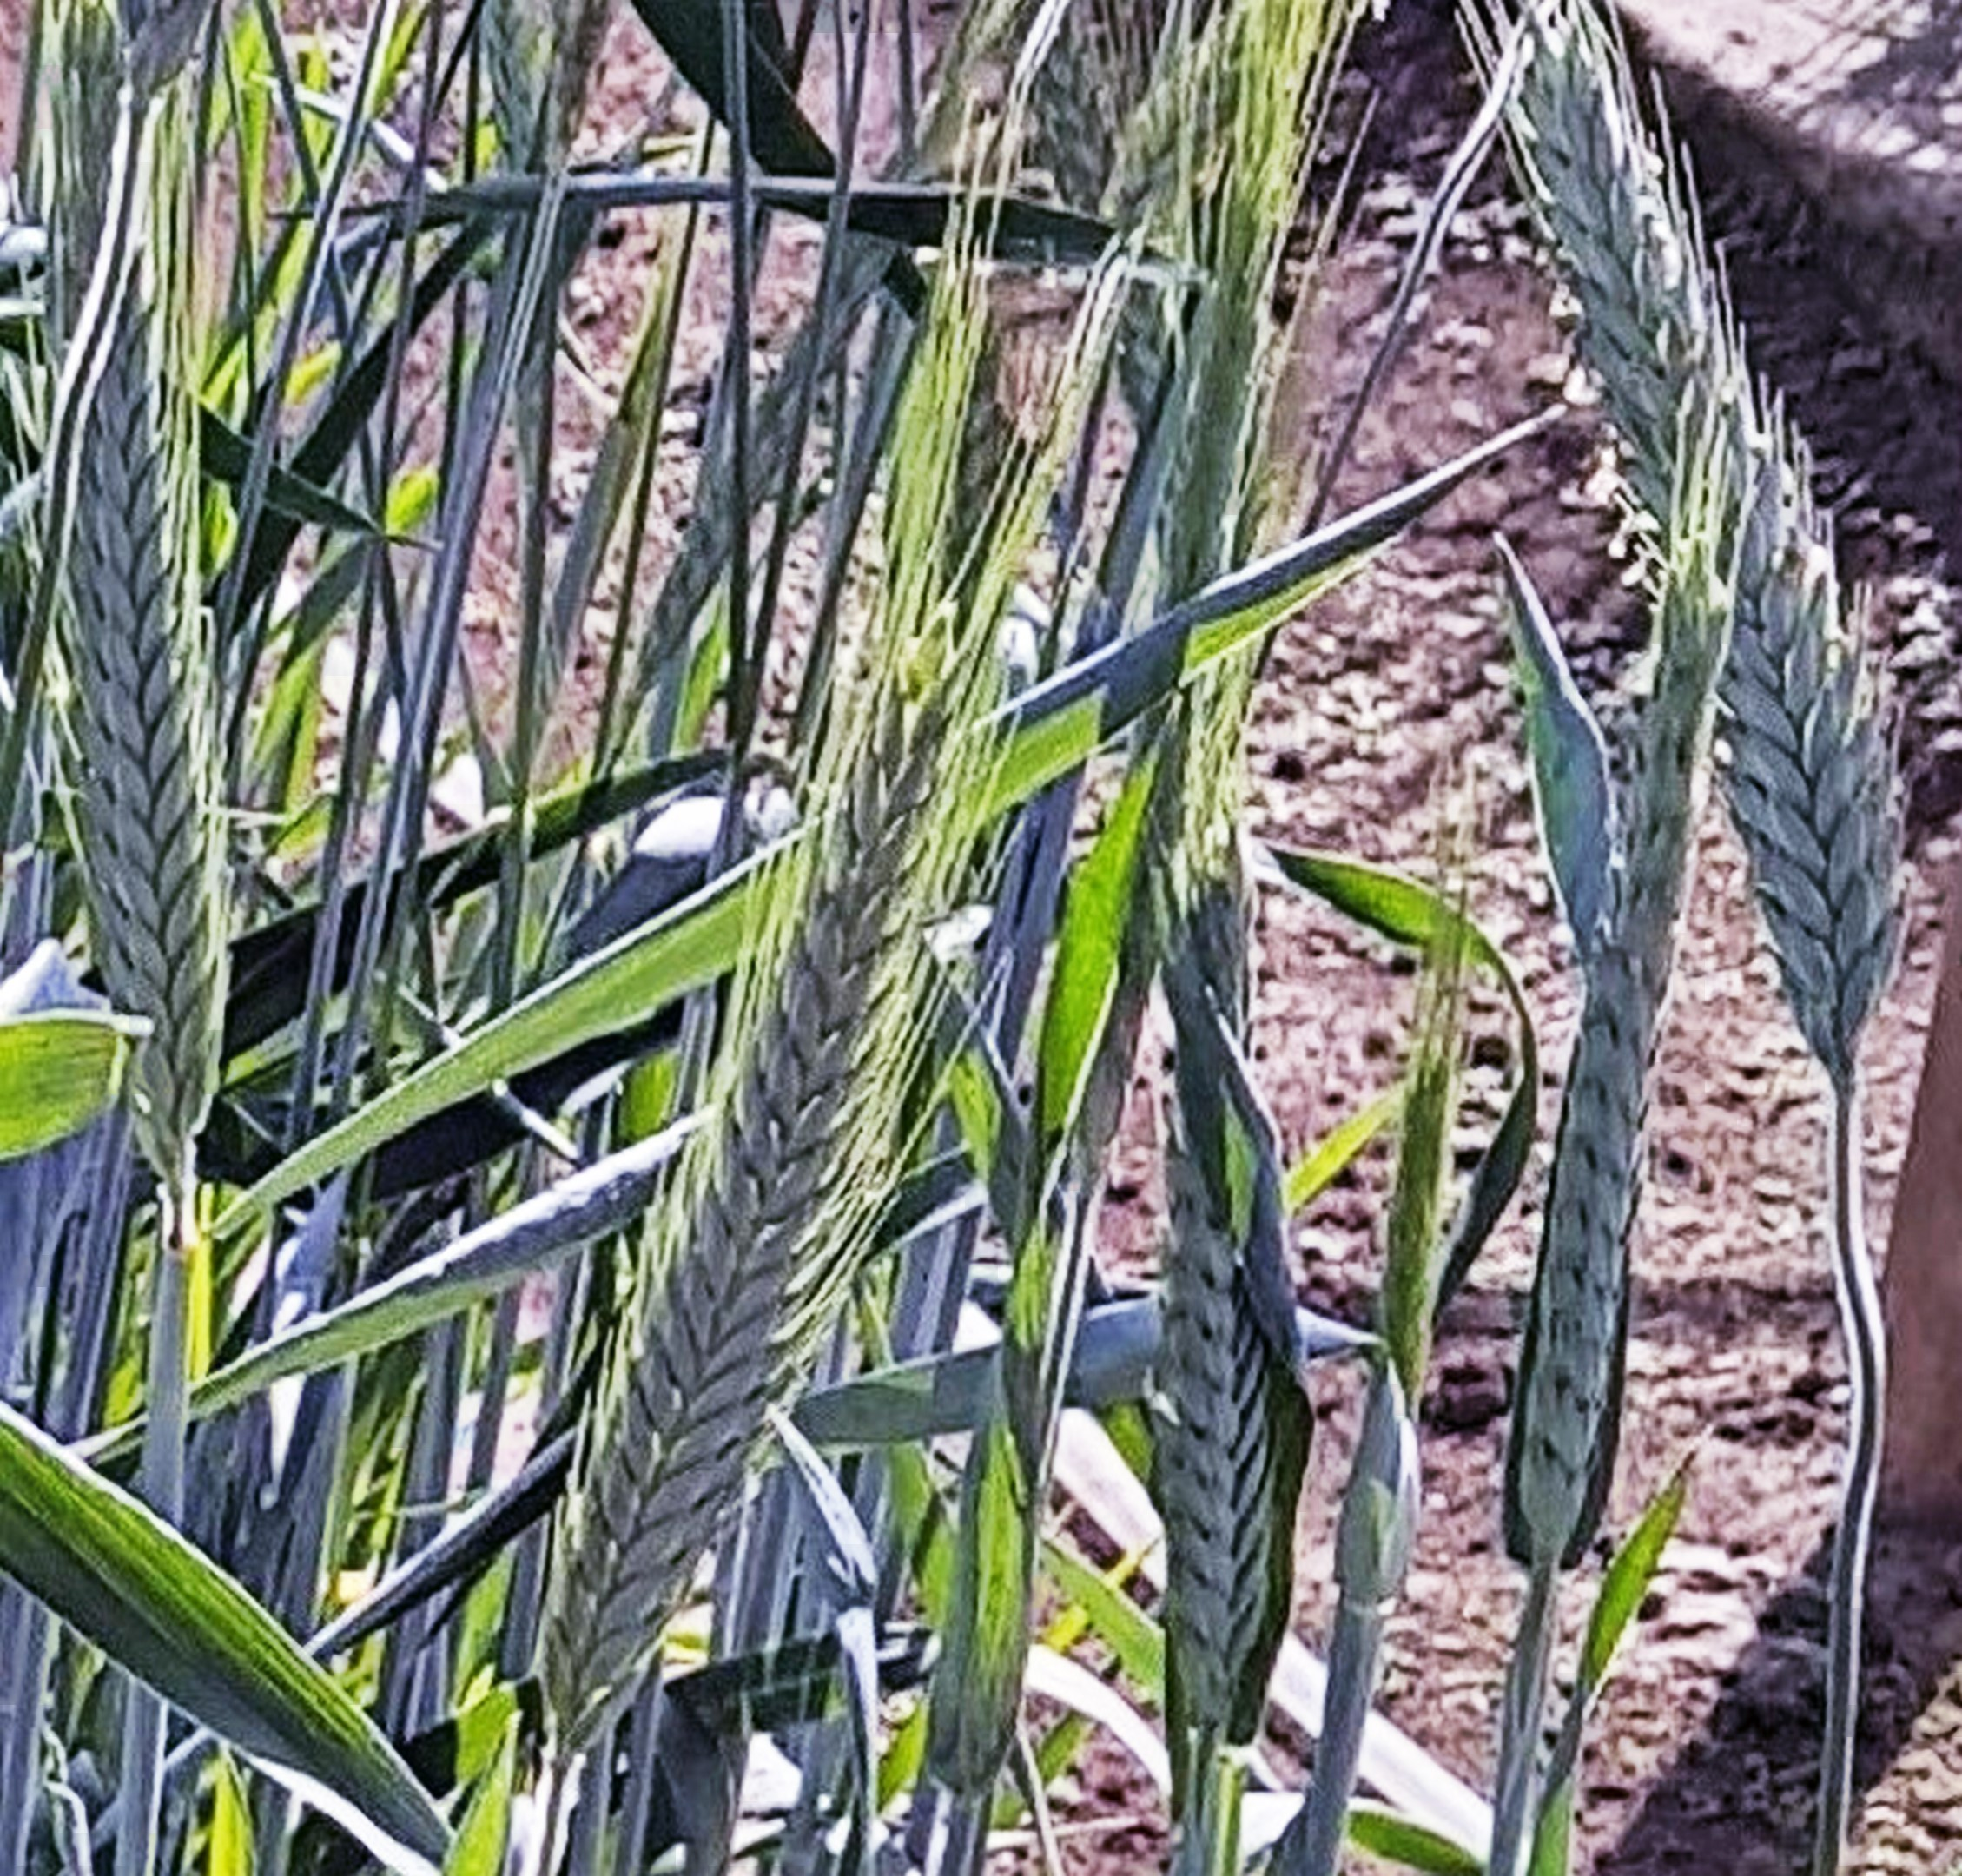Healthy Wheat: (559, 730, 1014, 1682), (26, 261, 273, 1090)
